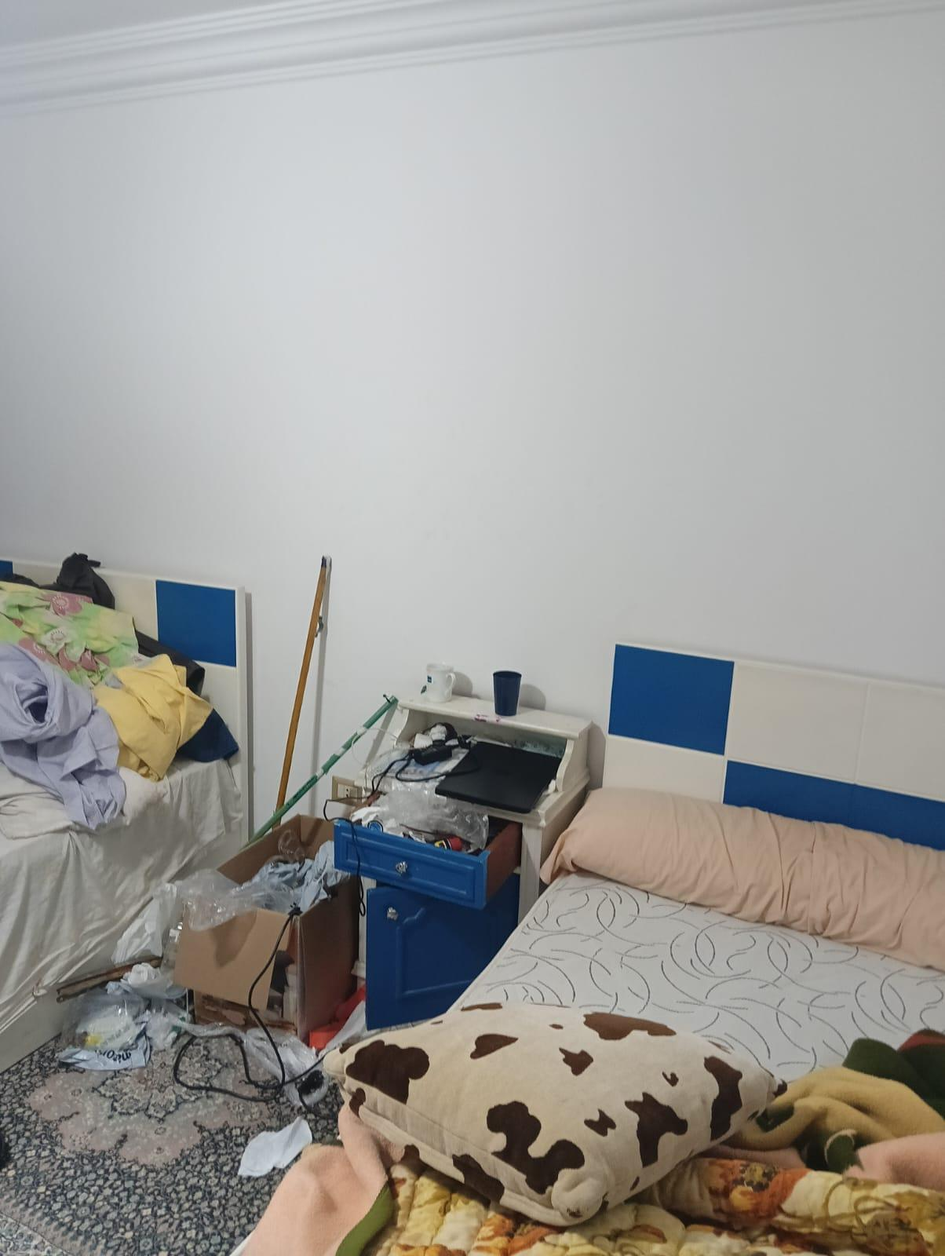cup: (493, 670, 520, 716), (424, 663, 454, 703)
